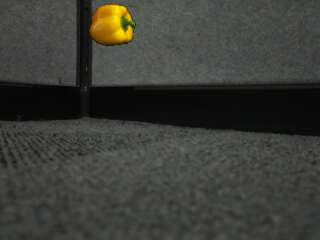Capsicum: (88, 4, 137, 48)
